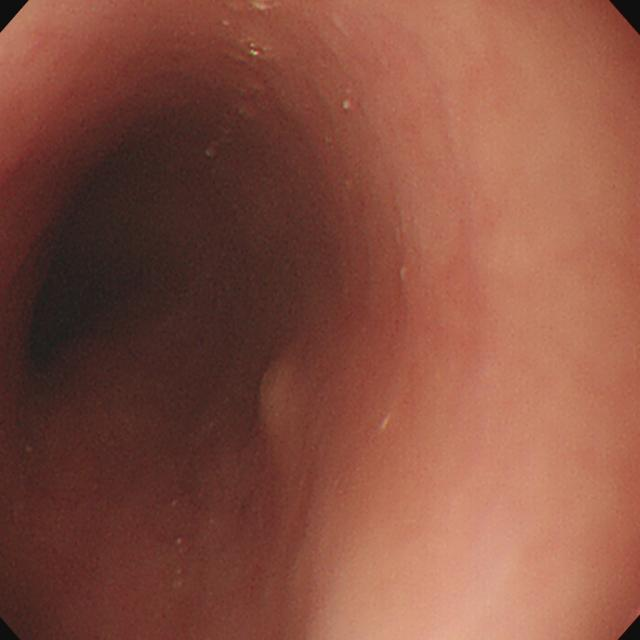E: (2, 116, 228, 497)
